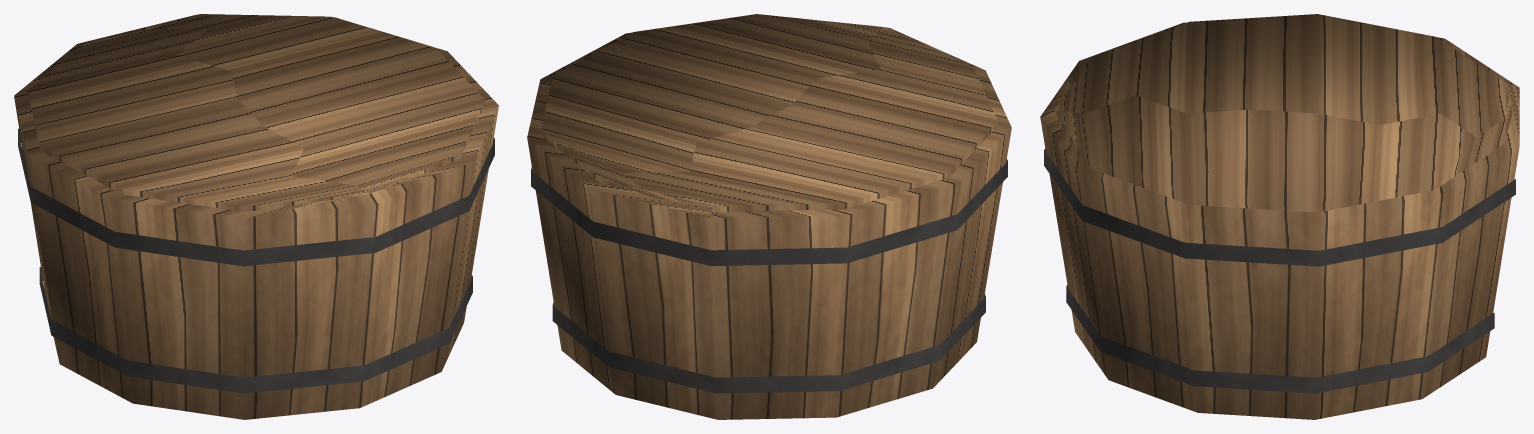
Rendered from Tub_Wood_1_LOD1.gltf.
The picture shows the model from 3 angles, left to right: view 1: azimuth 30°, elevation 25°; view 2: azimuth 150°, elevation 25°; view 3: azimuth 270°, elevation 25°; orthographic projection.
Visible parts, largest first — view 1: Tub_Wood_1_LOD1; view 2: Tub_Wood_1_LOD1; view 3: Tub_Wood_1_LOD1.
Part boxes in pixels (bbox=[...]): Tub_Wood_1_LOD1: bbox=[14, 14, 498, 419]; Tub_Wood_1_LOD1: bbox=[527, 14, 1011, 419]; Tub_Wood_1_LOD1: bbox=[1040, 14, 1519, 419].
Size of the model in its own units: 1.39 by 0.7 by 1.37.
2 materials, 2 textured.
